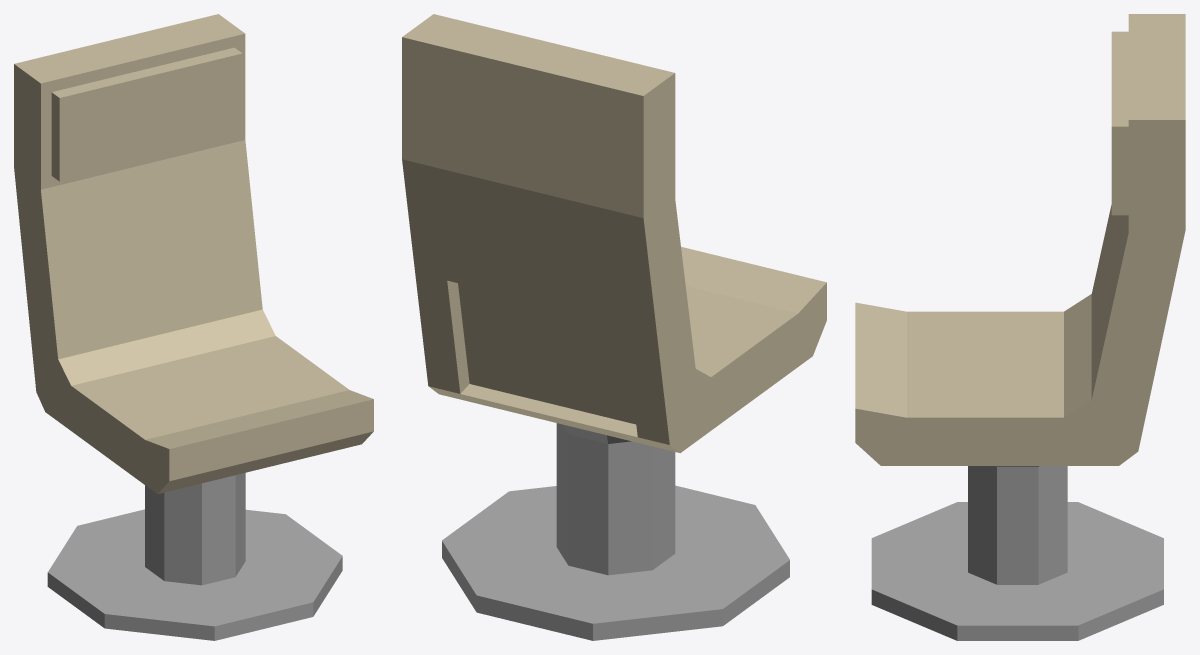
File: SciFi_Chair_Grey_01.fbx
The picture shows the model from 3 angles, left to right: view 1: azimuth 30°, elevation 25°; view 2: azimuth 150°, elevation 25°; view 3: azimuth 270°, elevation 25°; orthographic projection. The views are drawn at different scales.
Parts seen in each view (by area): view 1: SciFi_Chair_Grey_01; view 2: SciFi_Chair_Grey_01; view 3: SciFi_Chair_Grey_01.
Boxes of the visible parts, bbox=[...] form: SciFi_Chair_Grey_01: bbox=[14, 14, 373, 640]; SciFi_Chair_Grey_01: bbox=[402, 14, 826, 640]; SciFi_Chair_Grey_01: bbox=[855, 14, 1185, 640].
Size of the model in its own units: 22.11 by 42.78 by 25.
